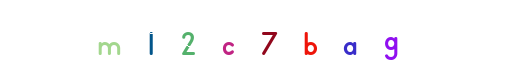1: (143, 0, 223, 80)
2: (212, 0, 292, 80)
7: (248, 0, 328, 80)
A: (255, 0, 335, 80)
B: (250, 0, 330, 80)
C: (219, 0, 299, 80)
G: (351, 0, 431, 80)
M: (80, 0, 160, 80)
